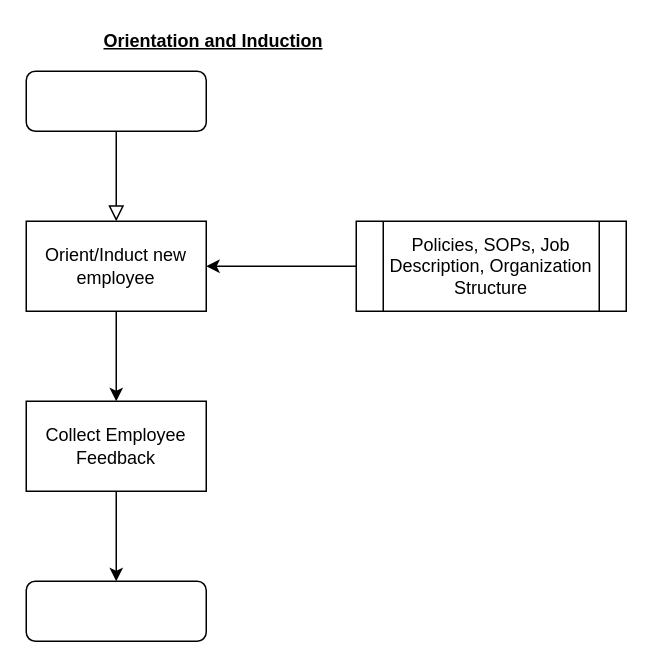
Image size: 653x668. Some labels were removed from this diagram. Here are the shapes that lost their labels. From the top down, the box of each, then its label:
(25, 70, 206, 131): Start
(25, 580, 206, 641): End
